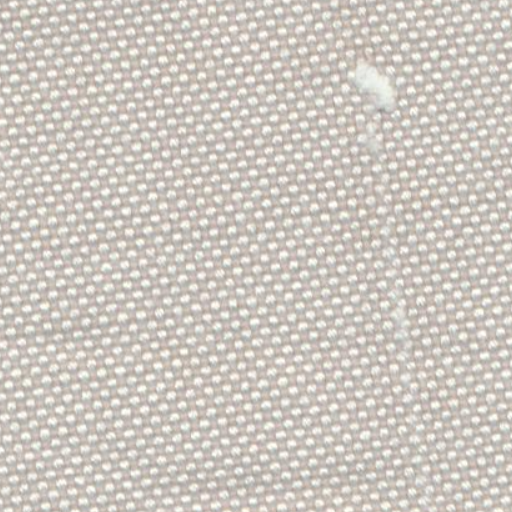MianQiu: (328, 48, 408, 118)
